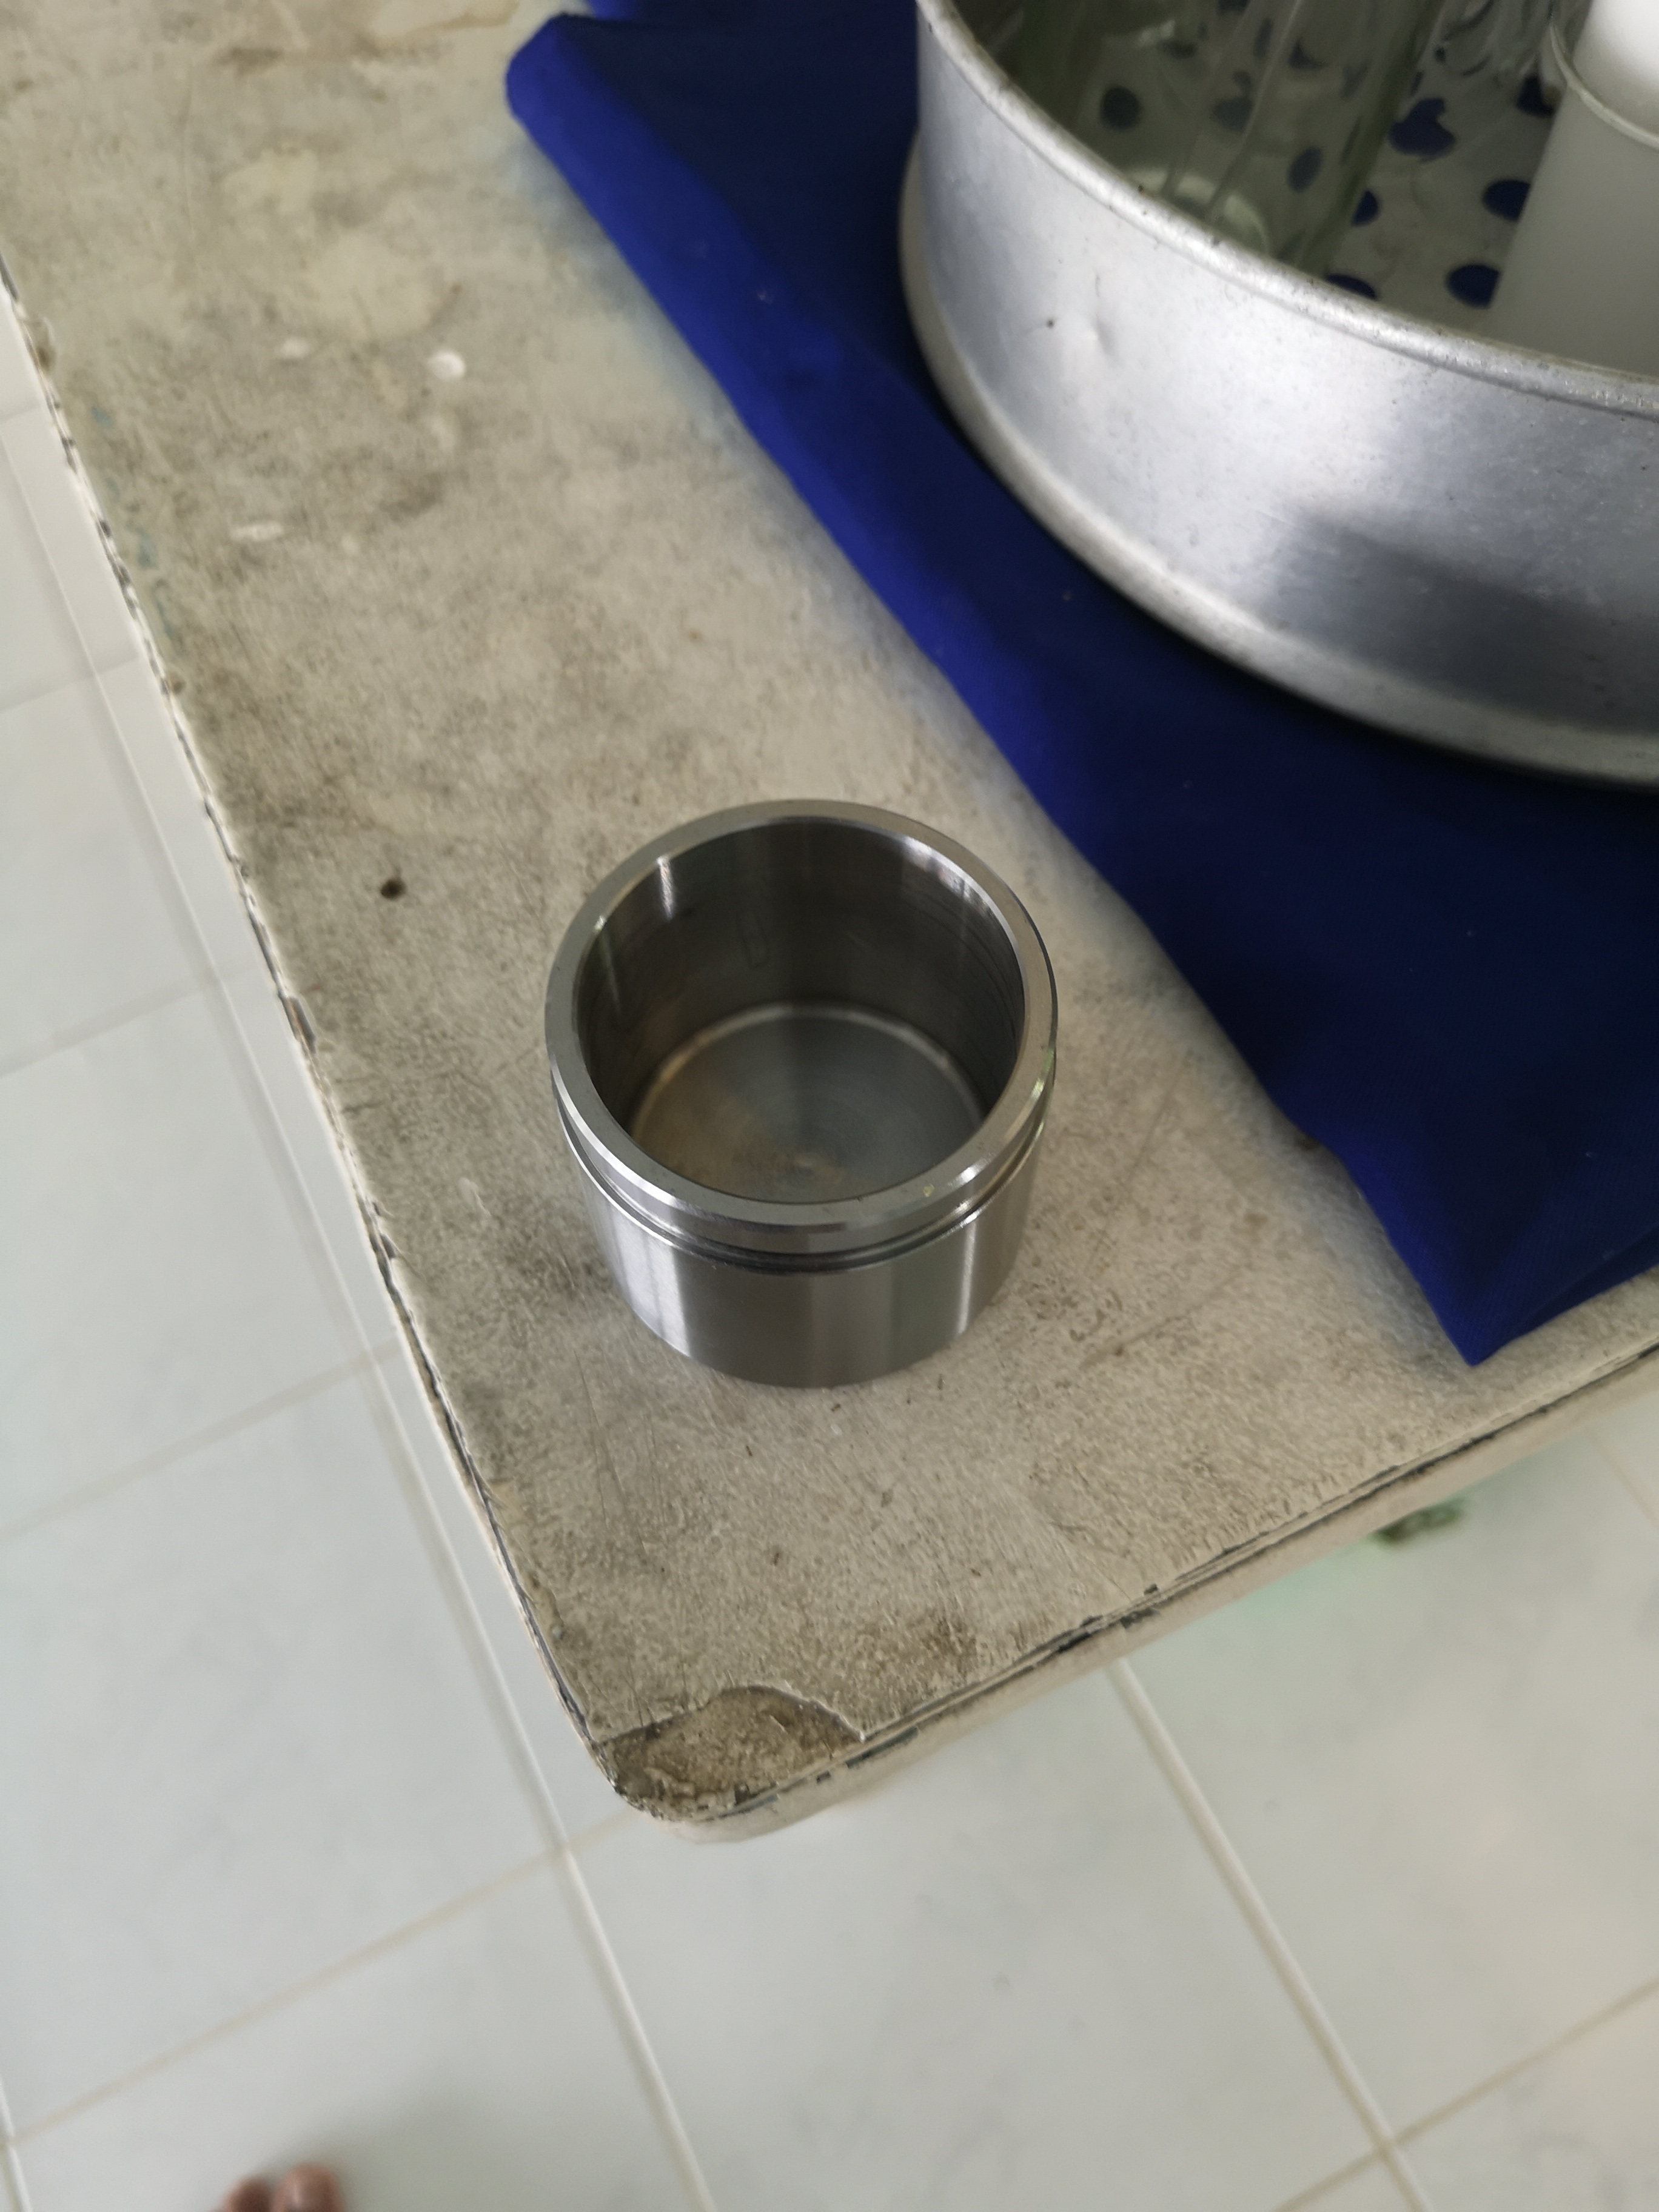ลูกสูบดิสเบรค: (505, 779, 1129, 1402)
